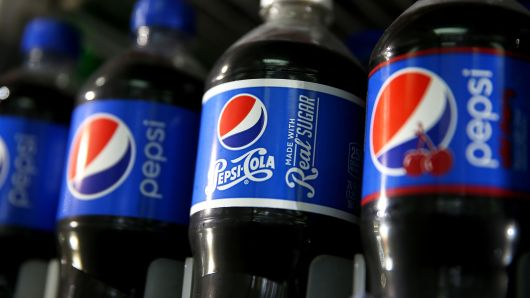pepsi: (368, 65, 457, 174), (368, 74, 457, 174), (368, 74, 454, 174), (64, 112, 134, 198), (64, 116, 134, 198), (217, 92, 267, 148), (219, 92, 267, 148), (219, 94, 267, 148)
